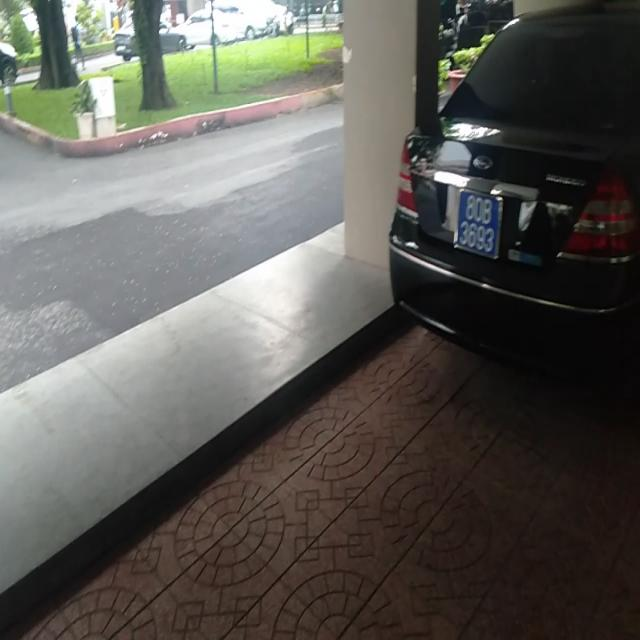bien_xanh: (448, 184, 504, 271)
